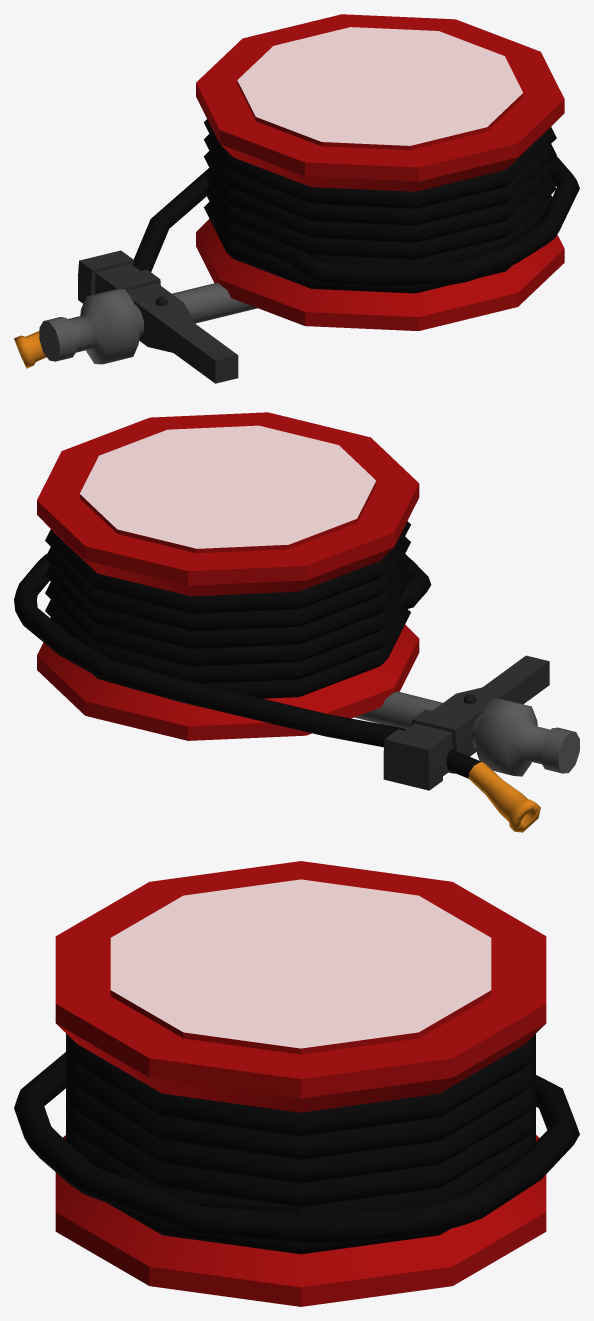
Rendered from mod_laboratory_fire_hose.FBX.
3 views of the same model, one above another, from view 1: azimuth 30°, elevation 25°; view 2: azimuth 150°, elevation 25°; view 3: azimuth 270°, elevation 25° (orthographic). The views are drawn at different scales.
Visible parts, largest first — view 1: mod_laboratorium_fire_hose; view 2: mod_laboratorium_fire_hose; view 3: mod_laboratorium_fire_hose.
Part boxes in pixels (x1,y1,x2,y2): mod_laboratorium_fire_hose: [14, 14, 579, 383]; mod_laboratorium_fire_hose: [14, 412, 579, 832]; mod_laboratorium_fire_hose: [14, 861, 579, 1306].
Size of the model in its own units: 12.4 by 5.4 by 8.65.
